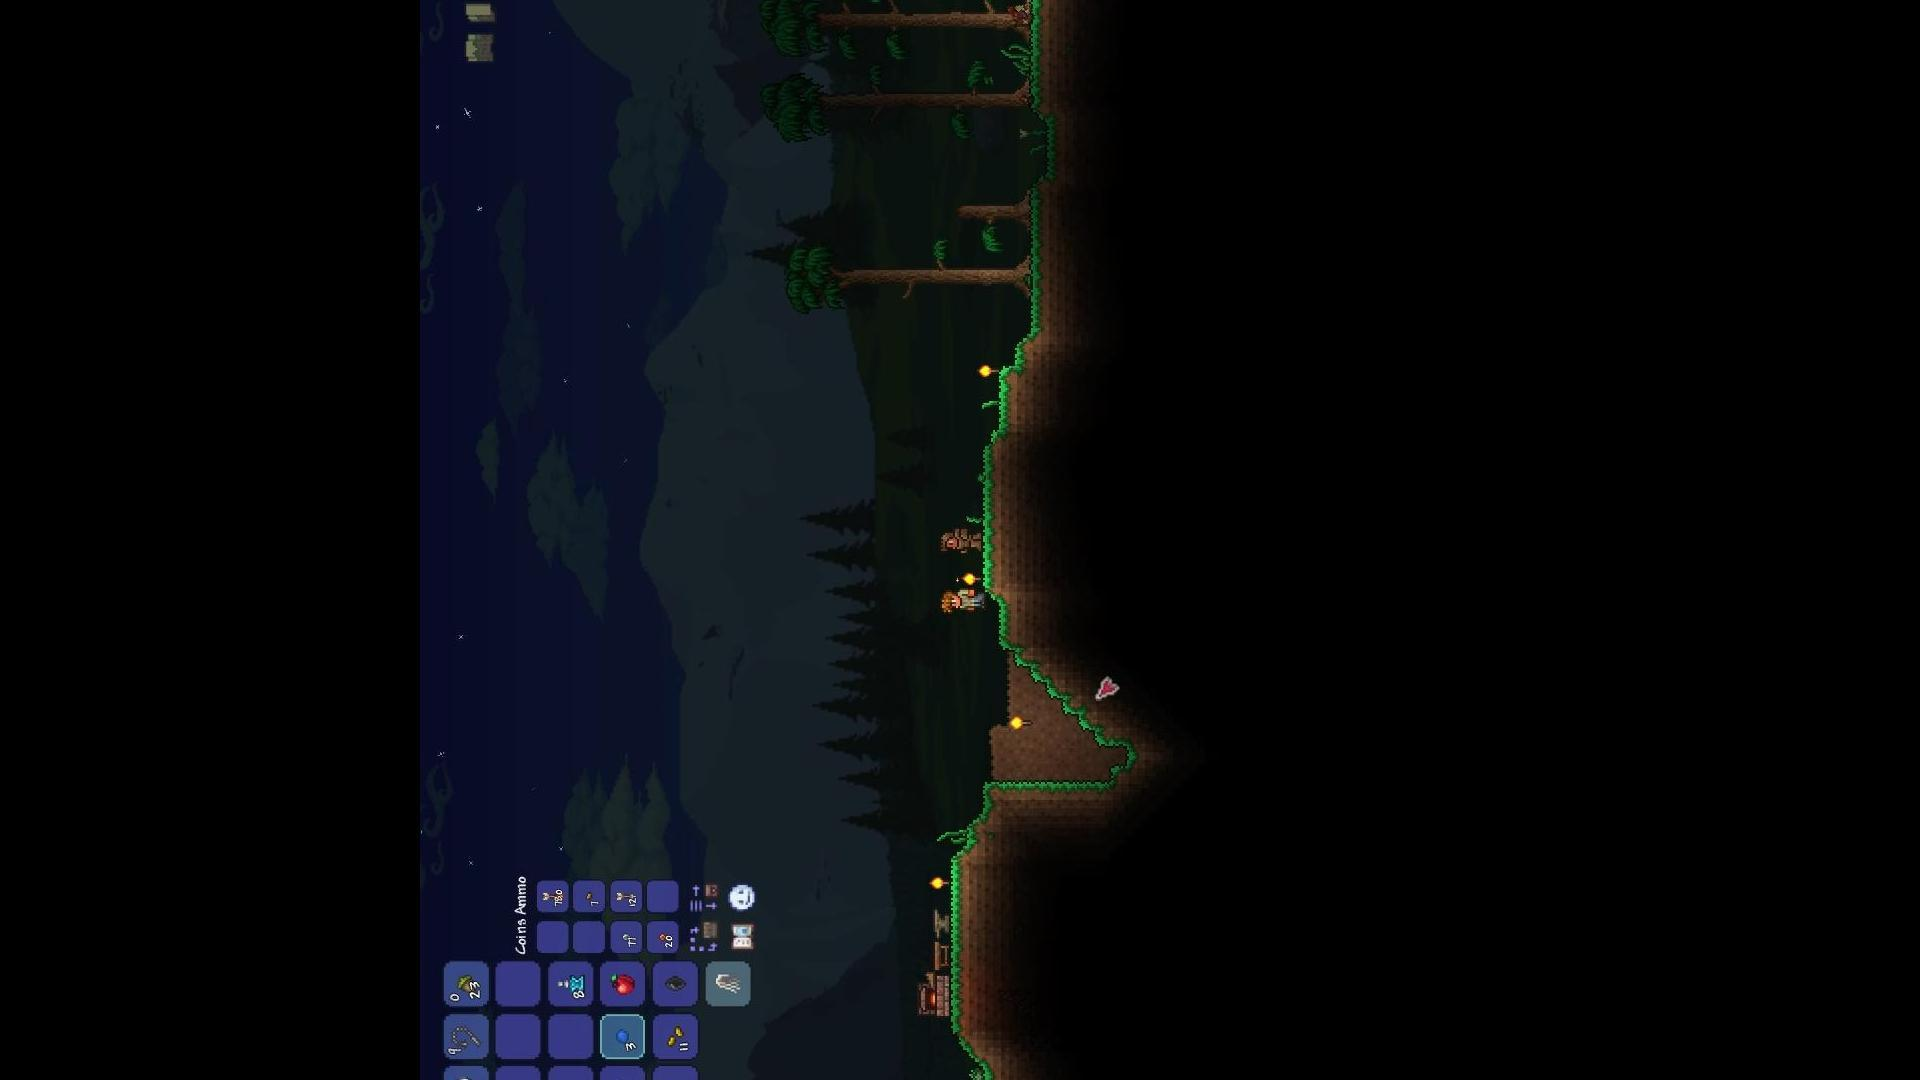anvil: (931, 910, 952, 939)
furnace: (913, 971, 953, 1021)
recallP: (553, 971, 592, 996)
